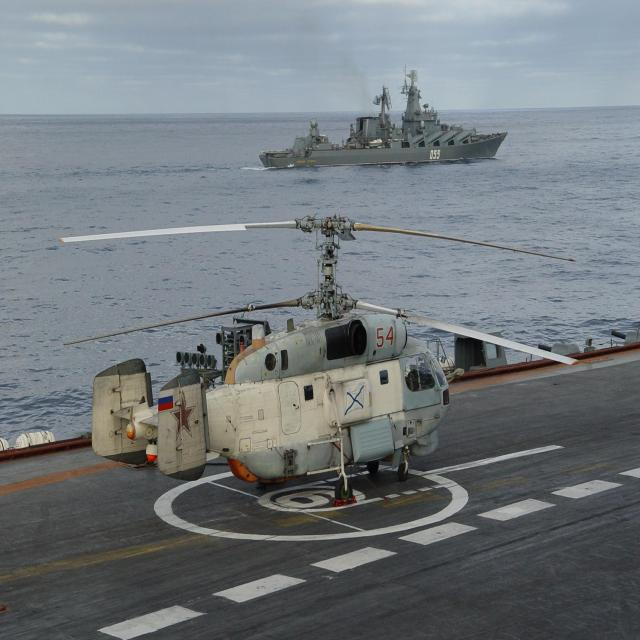MIL_HELO: (54, 213, 582, 506)
